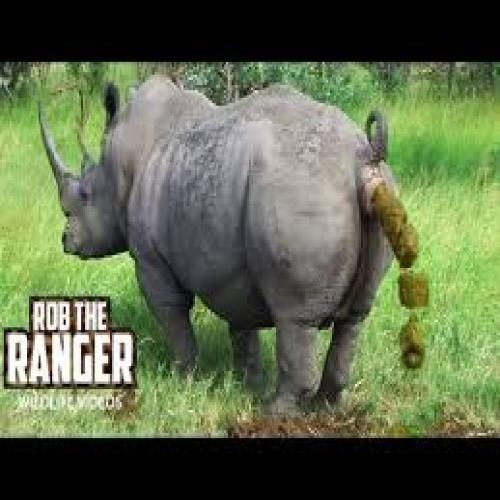rhino-endangered: (30, 73, 403, 401)
